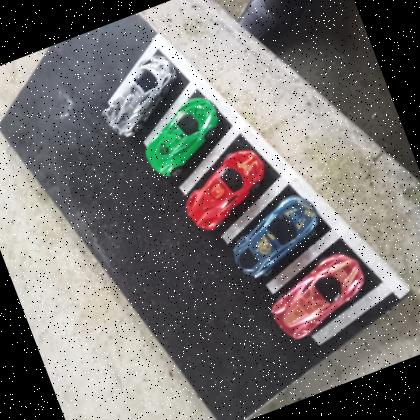Car: (259, 244, 379, 346), (221, 189, 333, 284), (88, 49, 192, 142), (174, 144, 279, 236), (133, 92, 233, 183)
